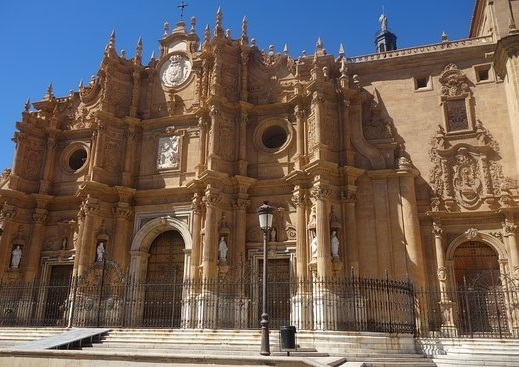arco-medio-punto: (127, 212, 193, 255), (442, 227, 509, 265)
ojo-de-buey: (251, 115, 293, 154), (57, 139, 90, 174)
vano-adintelado: (246, 245, 297, 328), (38, 258, 76, 325)
